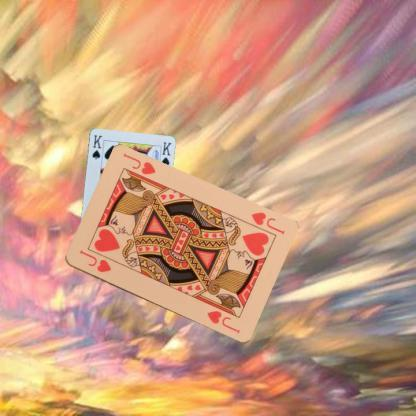Jh: (248, 209, 286, 236), (76, 247, 112, 274)
Ks: (89, 132, 103, 160)
